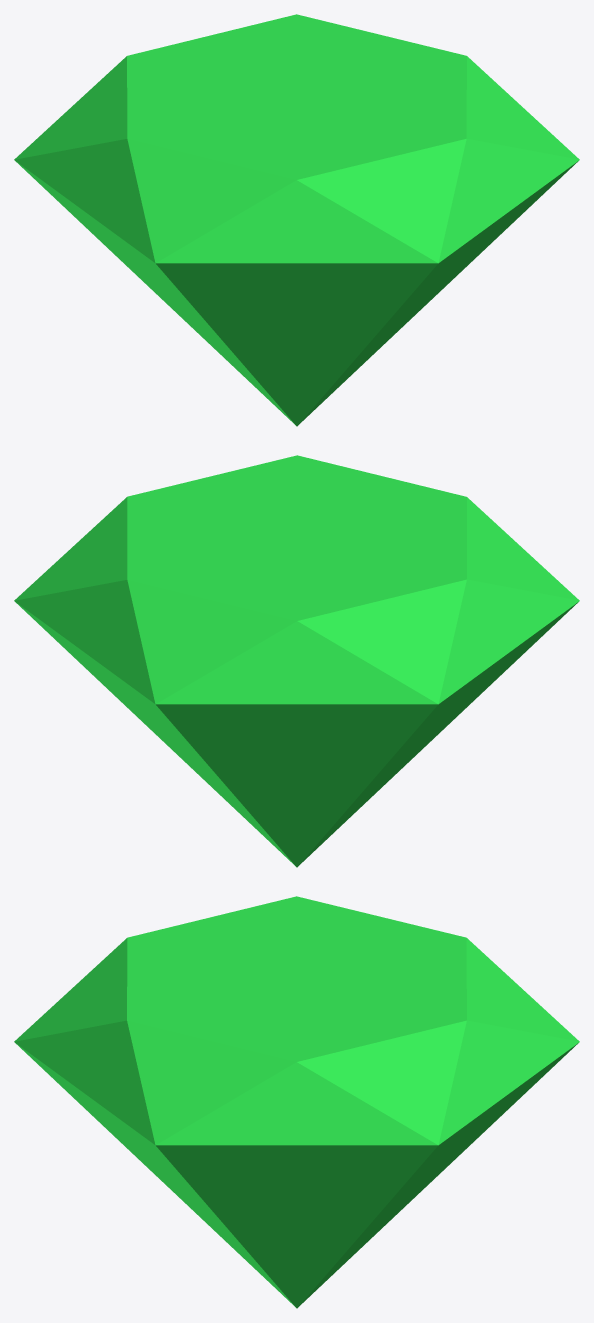
Rendered from Gem4.fbx.
3 views of the same model, one above another, from view 1: azimuth 30°, elevation 25°; view 2: azimuth 150°, elevation 25°; view 3: azimuth 270°, elevation 25° (orthographic).
Parts seen in each view (by area): view 1: Gem4; view 2: Gem4; view 3: Gem4.
Part boxes in pixels (x1,y1,x2,y2): Gem4: [14, 14, 579, 426]; Gem4: [14, 455, 579, 867]; Gem4: [14, 896, 579, 1308].
Bounding box in the file's own units: 217 × 161 × 250.
